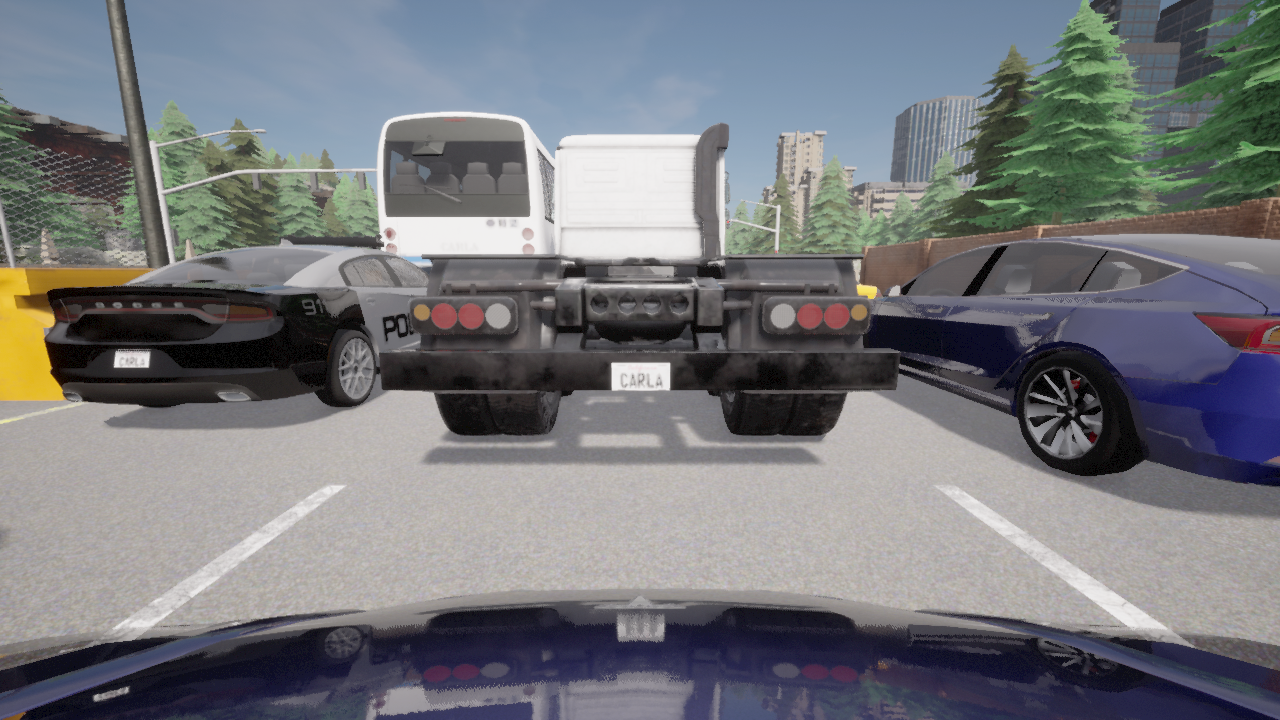cyclist: (0, 588, 1279, 719), (378, 123, 899, 435), (862, 233, 1279, 486), (44, 235, 432, 407), (377, 112, 555, 274), (856, 280, 881, 298)
